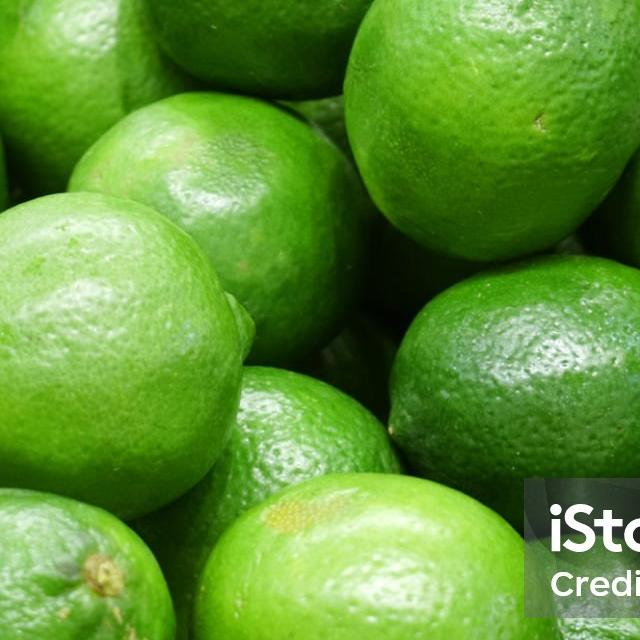lime: (328, 0, 640, 270)
